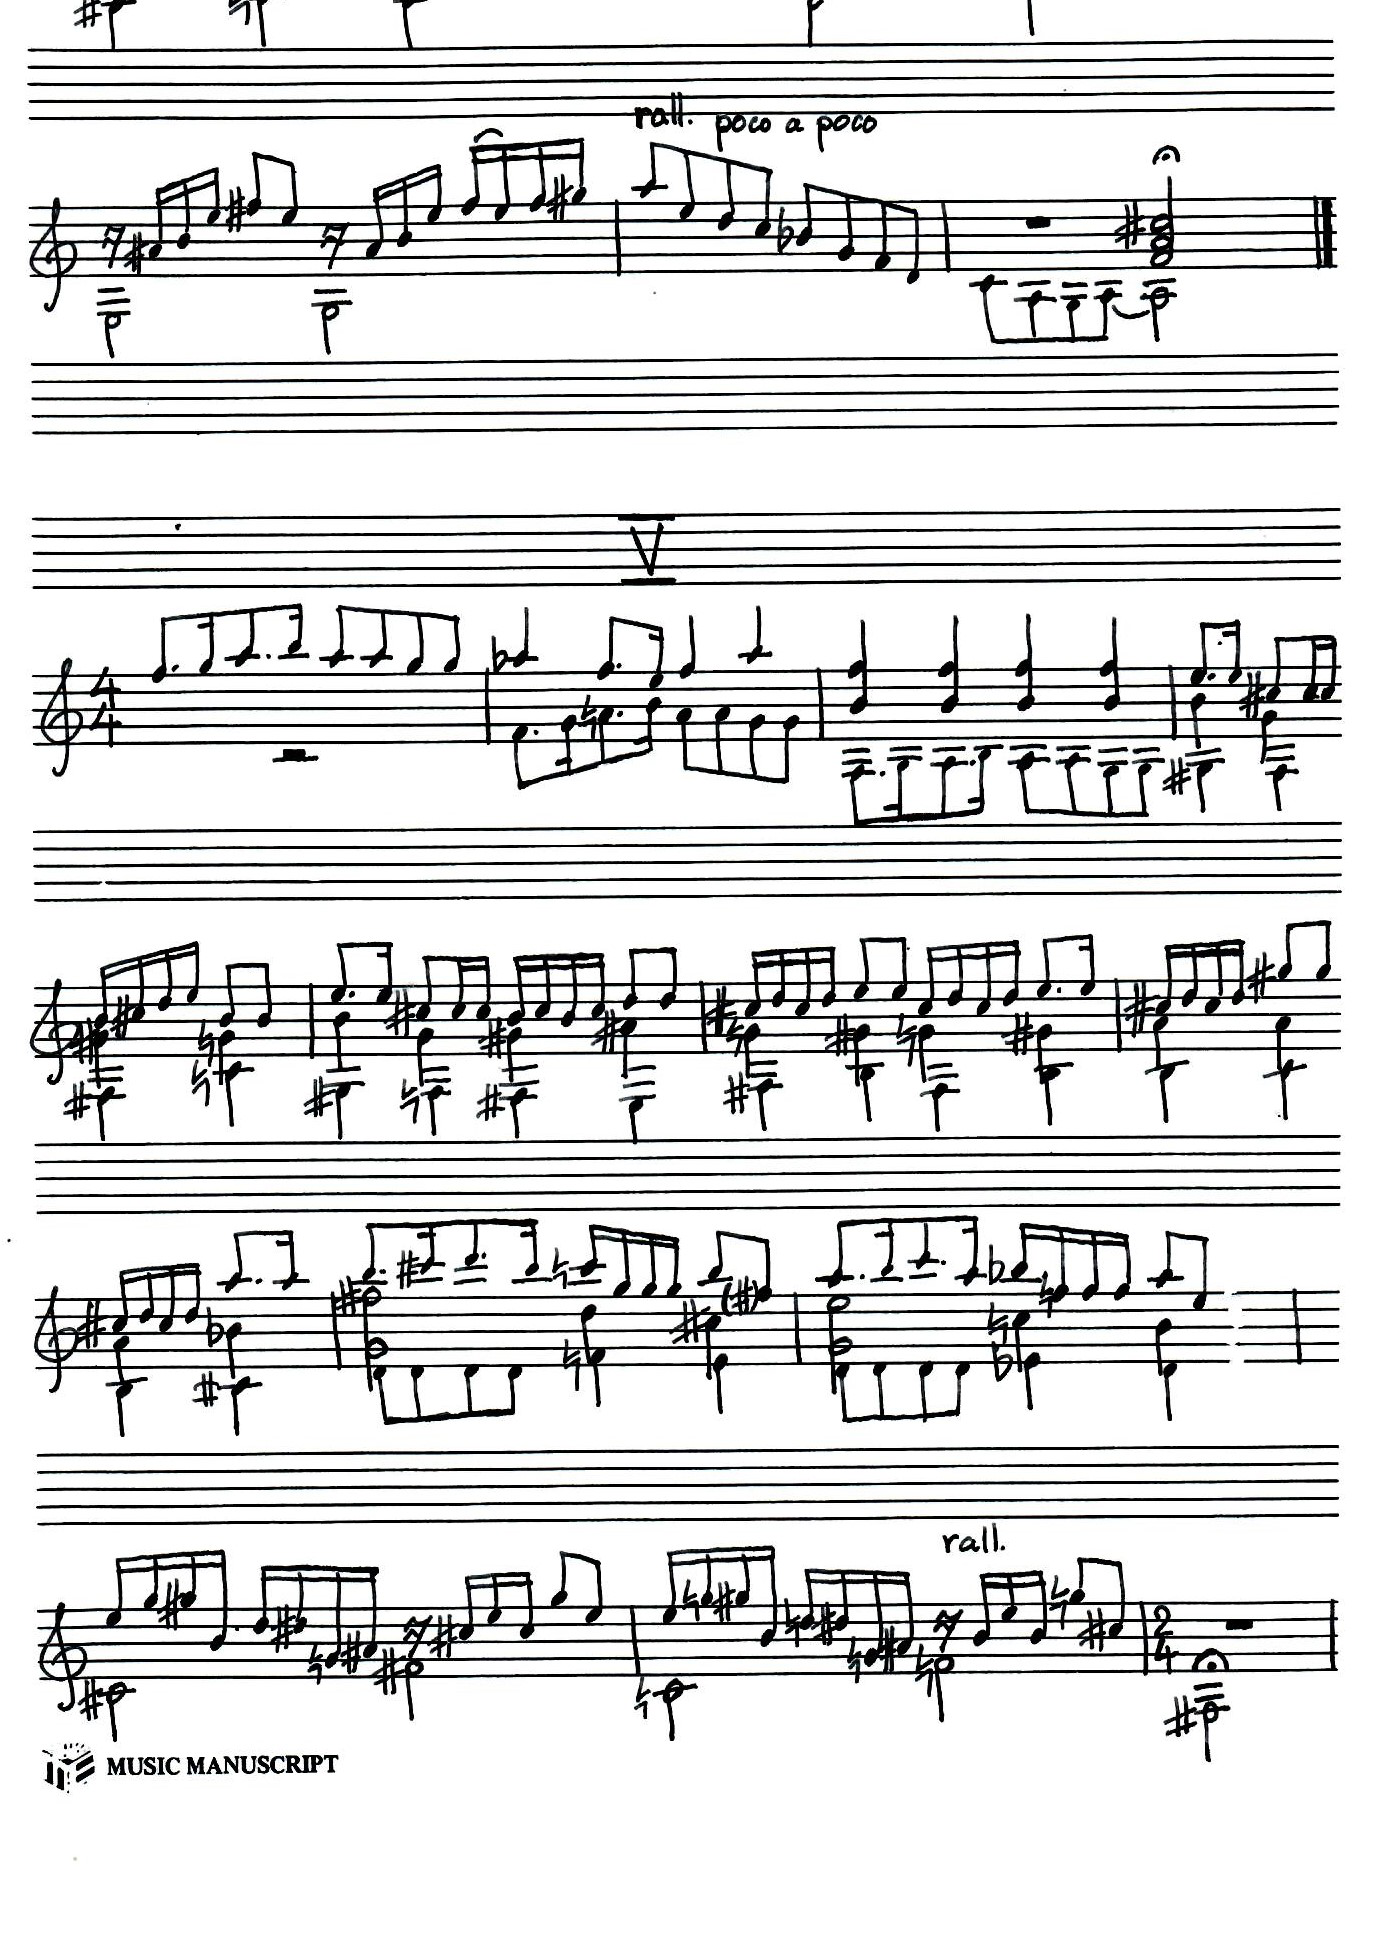2-4-Time: (1142, 1599, 1184, 1671)
4-4-Time: (85, 666, 129, 747)
Barline: (1286, 1290, 1307, 1362), (1307, 195, 1325, 272), (1161, 664, 1179, 741), (811, 664, 828, 742), (1133, 1598, 1148, 1679), (787, 1293, 804, 1365), (938, 197, 953, 274), (694, 980, 709, 1055), (1111, 978, 1126, 1053), (629, 1599, 644, 1673), (1325, 1596, 1338, 1670), (328, 1293, 340, 1369), (612, 199, 623, 275), (308, 981, 317, 1064), (483, 669, 492, 744)
Beam: (518, 750, 653, 788), (97, 941, 210, 980), (364, 1218, 543, 1240), (644, 144, 771, 175), (159, 601, 302, 628), (832, 1213, 986, 1237), (1015, 1221, 1138, 1251), (471, 136, 590, 165), (805, 183, 918, 212), (379, 1403, 518, 1427), (850, 803, 988, 827), (109, 1546, 229, 1572), (259, 1562, 382, 1587), (684, 754, 790, 783), (373, 160, 445, 200), (985, 328, 1108, 349), (926, 937, 1021, 964), (335, 604, 465, 624), (587, 1224, 680, 1251), (747, 943, 837, 970), (799, 1566, 913, 1587), (153, 171, 220, 205), (837, 1406, 964, 1424), (665, 1544, 780, 1564), (1022, 800, 1147, 818), (115, 1261, 204, 1284), (509, 952, 609, 968), (1190, 619, 1257, 643), (1166, 938, 1244, 958), (1263, 634, 1350, 651), (457, 1569, 533, 1587), (608, 613, 671, 634), (974, 1569, 1049, 1586), (419, 955, 492, 971), (230, 1228, 296, 1246), (555, 1547, 608, 1569), (1039, 934, 1099, 953), (712, 1228, 772, 1246), (251, 147, 301, 168), (1163, 1227, 1212, 1246), (1073, 1553, 1126, 1571), (331, 943, 397, 956), (858, 934, 909, 949), (219, 961, 278, 973), (1283, 920, 1337, 931), (627, 949, 683, 956)
Chord: (1150, 177, 1184, 275)
Dot: (253, 1278, 266, 1288), (856, 1272, 864, 1290), (1212, 637, 1224, 648), (1203, 673, 1217, 682), (265, 651, 274, 664), (168, 666, 183, 673), (874, 769, 886, 778), (379, 1269, 392, 1276), (349, 992, 359, 1001), (228, 1626, 239, 1634), (615, 661, 624, 670), (967, 759, 977, 766), (1054, 986, 1063, 993), (940, 1258, 947, 1267), (482, 1252, 489, 1260), (534, 729, 540, 738), (617, 711, 623, 720)
Eighth-Note: (715, 156, 741, 235), (976, 271, 1001, 349), (871, 197, 894, 275), (364, 607, 392, 669), (793, 183, 819, 250), (403, 610, 427, 676), (150, 615, 171, 690), (233, 607, 259, 669), (1188, 1237, 1209, 1311), (1061, 751, 1084, 818), (1112, 1549, 1129, 1638), (1188, 622, 1209, 693), (826, 1219, 847, 1290), (838, 192, 858, 266), (326, 601, 349, 666), (460, 1360, 483, 1420), (677, 150, 696, 221), (868, 1363, 892, 1421), (584, 1559, 605, 1625), (1015, 753, 1037, 814), (225, 1230, 247, 1291), (373, 1368, 397, 1424), (639, 141, 662, 200), (280, 159, 299, 226), (407, 1368, 430, 1426), (754, 168, 772, 239), (443, 613, 462, 678), (937, 757, 956, 818), (660, 946, 678, 1011), (906, 206, 921, 284), (329, 943, 349, 1002), (245, 153, 263, 217), (257, 961, 274, 1029), (599, 610, 614, 685), (837, 1365, 856, 1421), (416, 955, 433, 1020), (894, 937, 910, 1002), (853, 938, 871, 998), (1316, 920, 1334, 980), (1280, 925, 1298, 983), (551, 1553, 570, 1607), (703, 1231, 724, 1281), (921, 1363, 937, 1424), (361, 1222, 377, 1281), (757, 1240, 772, 1303), (1034, 938, 1049, 999), (623, 943, 636, 1010), (1027, 289, 1043, 343), (1066, 299, 1084, 349), (1102, 765, 1120, 814), (507, 1363, 524, 1417), (1072, 1555, 1088, 1608), (912, 1219, 929, 1267), (1099, 287, 1114, 340), (1135, 762, 1150, 812), (222, 961, 233, 1023), (956, 1363, 968, 1415)
Flat: (986, 1338, 1016, 1384), (486, 631, 510, 676), (983, 1243, 1007, 1287), (204, 1308, 223, 1353), (774, 206, 793, 250)
G-Clef: (42, 1590, 88, 1718), (28, 976, 79, 1086), (31, 197, 76, 317), (40, 658, 81, 781), (33, 1287, 79, 1391)
Half-Note: (928, 1655, 956, 1724), (401, 1659, 427, 1724), (1199, 1698, 1221, 1770), (662, 1679, 686, 1743), (1148, 287, 1173, 346), (103, 1685, 126, 1739), (799, 1, 825, 42), (103, 313, 121, 362), (320, 307, 338, 352)
Half-Rest: (277, 744, 313, 759)
Multiple-Half-Notes: (359, 1285, 388, 1365)
Multiple-Quarter-Notes: (745, 1022, 781, 1133), (918, 1023, 955, 1128), (1010, 1308, 1043, 1409), (419, 1025, 448, 1136), (621, 1019, 647, 1142), (1150, 1016, 1176, 1130), (579, 1305, 608, 1409), (855, 1025, 882, 1133), (700, 1314, 729, 1414), (1155, 1314, 1179, 1430), (507, 1029, 531, 1145), (846, 616, 873, 714), (217, 1025, 241, 1133), (1099, 613, 1124, 714), (226, 1326, 248, 1435), (332, 1014, 352, 1139), (1039, 1025, 1061, 1128), (938, 616, 961, 711), (1015, 615, 1036, 714), (91, 1029, 109, 1140), (112, 1335, 130, 1442), (1274, 1014, 1292, 1121)
Natural: (560, 1339, 585, 1397), (186, 1059, 210, 1103), (983, 1303, 1007, 1344), (551, 1246, 570, 1294), (198, 1017, 216, 1065), (579, 696, 596, 738), (228, 1, 254, 22)
Quarter-Note: (512, 603, 533, 670), (1184, 693, 1208, 750), (681, 613, 700, 676), (1260, 711, 1283, 760), (400, 1, 422, 46), (1196, 763, 1215, 814), (748, 604, 763, 667), (1269, 765, 1289, 811), (103, 1, 123, 46), (257, 1, 271, 48)
Sharp: (700, 981, 733, 1038), (1001, 1010, 1037, 1061), (588, 1010, 626, 1058), (73, 1296, 103, 1356), (671, 1293, 700, 1353), (1117, 192, 1145, 254), (1123, 980, 1155, 1034), (389, 989, 422, 1041), (476, 1016, 509, 1068), (371, 1646, 403, 1697), (825, 1014, 858, 1062), (265, 1608, 298, 1656), (427, 1614, 457, 1665), (1245, 949, 1277, 996), (1241, 667, 1266, 724), (1078, 1605, 1109, 1650), (338, 1626, 364, 1676), (543, 172, 570, 218), (708, 1584, 742, 1620), (299, 1082, 329, 1122), (1164, 1697, 1193, 1739), (123, 233, 150, 275), (474, 1082, 503, 1121), (193, 1372, 222, 1411), (61, 1089, 88, 1130), (108, 996, 132, 1041), (332, 1278, 358, 1320), (723, 1071, 747, 1115), (159, 1586, 184, 1626), (877, 1628, 900, 1673), (70, 1023, 91, 1071), (810, 1608, 837, 1644), (225, 189, 245, 230), (1164, 759, 1188, 794), (394, 1252, 418, 1287), (73, 1, 102, 28), (730, 1278, 751, 1314), (82, 1677, 99, 1721)
Sixteenth-Note: (759, 1546, 783, 1653), (326, 1564, 349, 1671), (210, 1552, 232, 1650), (864, 1568, 885, 1670), (361, 1565, 383, 1659), (391, 175, 415, 251), (489, 144, 513, 220), (460, 145, 483, 220), (913, 946, 937, 1020), (1028, 1565, 1049, 1647), (898, 1564, 916, 1658), (793, 946, 816, 1020), (362, 183, 383, 260), (557, 712, 581, 780), (561, 955, 584, 1025), (528, 141, 549, 215), (534, 947, 555, 1022), (106, 1558, 129, 1626), (274, 1228, 298, 1293), (1001, 937, 1022, 1008), (148, 184, 168, 260), (1203, 941, 1223, 1017), (977, 937, 995, 1019), (199, 610, 222, 676), (183, 1258, 204, 1329), (745, 949, 766, 1017), (159, 1261, 178, 1335), (1179, 943, 1200, 1010), (254, 1565, 275, 1632), (1301, 633, 1320, 705), (1157, 940, 1175, 1017), (284, 601, 308, 660), (109, 1263, 130, 1329), (974, 1571, 992, 1646), (962, 1213, 980, 1287), (183, 1549, 204, 1611), (590, 949, 608, 1020), (1079, 931, 1097, 1002), (1082, 1228, 1100, 1300), (177, 172, 193, 250), (424, 162, 443, 227), (1226, 619, 1245, 685), (641, 1230, 659, 1300), (733, 1546, 754, 1605), (647, 628, 668, 688), (376, 938, 394, 1007), (474, 952, 492, 1020), (460, 1566, 476, 1641), (974, 748, 992, 815), (93, 962, 111, 1029), (132, 955, 150, 1022), (186, 937, 204, 1004), (157, 946, 175, 1011), (512, 950, 528, 1022), (947, 940, 964, 1011), (663, 1552, 680, 1623), (1052, 1227, 1067, 1305), (144, 1552, 163, 1611), (451, 955, 468, 1019), (136, 1264, 156, 1323), (570, 138, 587, 206), (522, 1219, 540, 1282), (771, 943, 787, 1010), (1009, 1222, 1030, 1275), (879, 1212, 895, 1278), (1230, 938, 1245, 1010), (617, 1227, 632, 1297), (891, 760, 909, 818), (1325, 631, 1340, 700), (822, 943, 837, 1011), (1117, 1225, 1130, 1302), (582, 1222, 600, 1279), (293, 1565, 308, 1632), (521, 1571, 536, 1638), (1000, 1569, 1018, 1623), (666, 1237, 681, 1300), (802, 1565, 816, 1632), (837, 1566, 850, 1631), (421, 1218, 436, 1275), (208, 165, 222, 227), (702, 1546, 715, 1608), (486, 1571, 500, 1626)
Sixteenth-Rest: (316, 215, 349, 274), (929, 1605, 962, 1652), (398, 1614, 430, 1659), (100, 221, 127, 269)
Whole-Rest: (1018, 215, 1058, 236), (1221, 1616, 1263, 1629)
